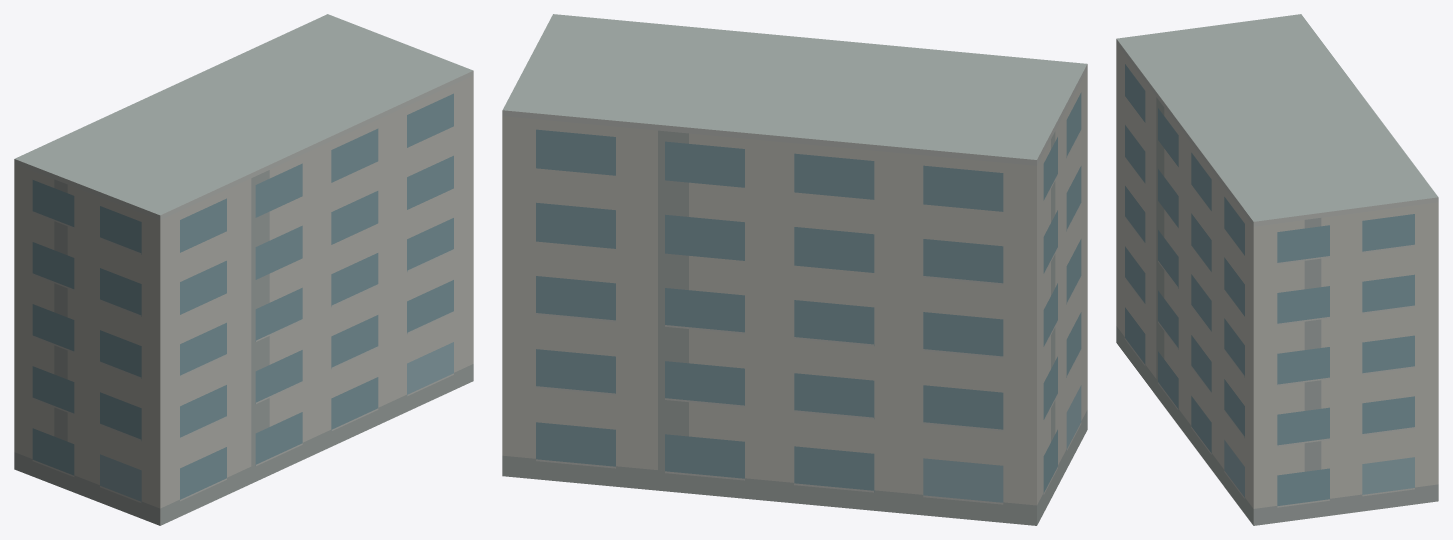
File: survey-upis-33012711.glb
3 views of the same model, side by side, from view 1: azimuth 30°, elevation 25°; view 2: azimuth 150°, elevation 25°; view 3: azimuth 270°, elevation 25° (orthographic). The views are drawn at different scales.
Parts seen in each view (by area): view 1: survey-upis-33012711.tmp; view 2: survey-upis-33012711.tmp; view 3: survey-upis-33012711.tmp.
Part boxes in pixels (<box>): survey-upis-33012711.tmp: <box>14,14,473,525</box>; survey-upis-33012711.tmp: <box>502,14,1087,525</box>; survey-upis-33012711.tmp: <box>1116,14,1438,525</box>.
Bounding box in the file's own units: 22.36 × 15.25 × 14.65.
